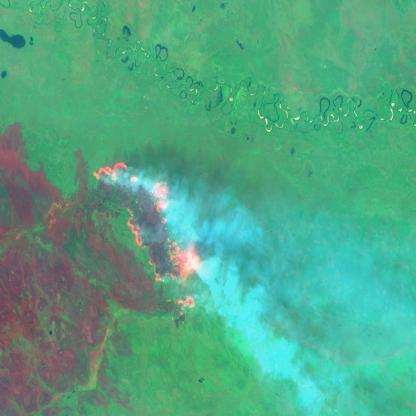fire: (91, 155, 204, 320)
